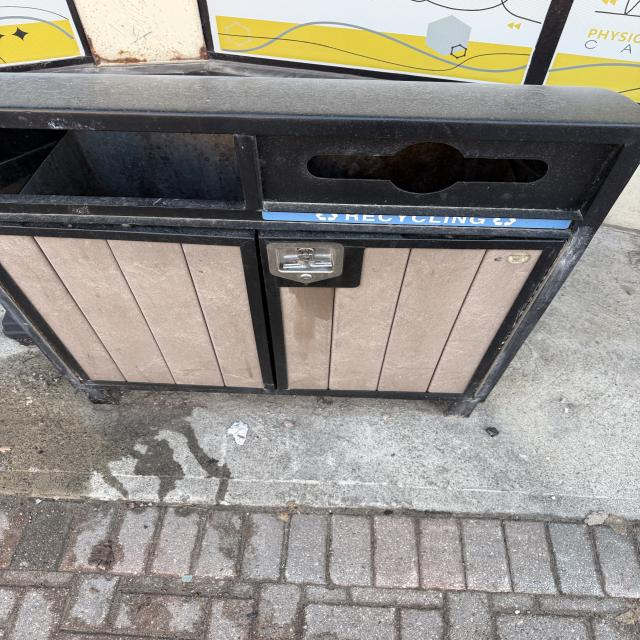Dustbin: (2, 72, 640, 418)
